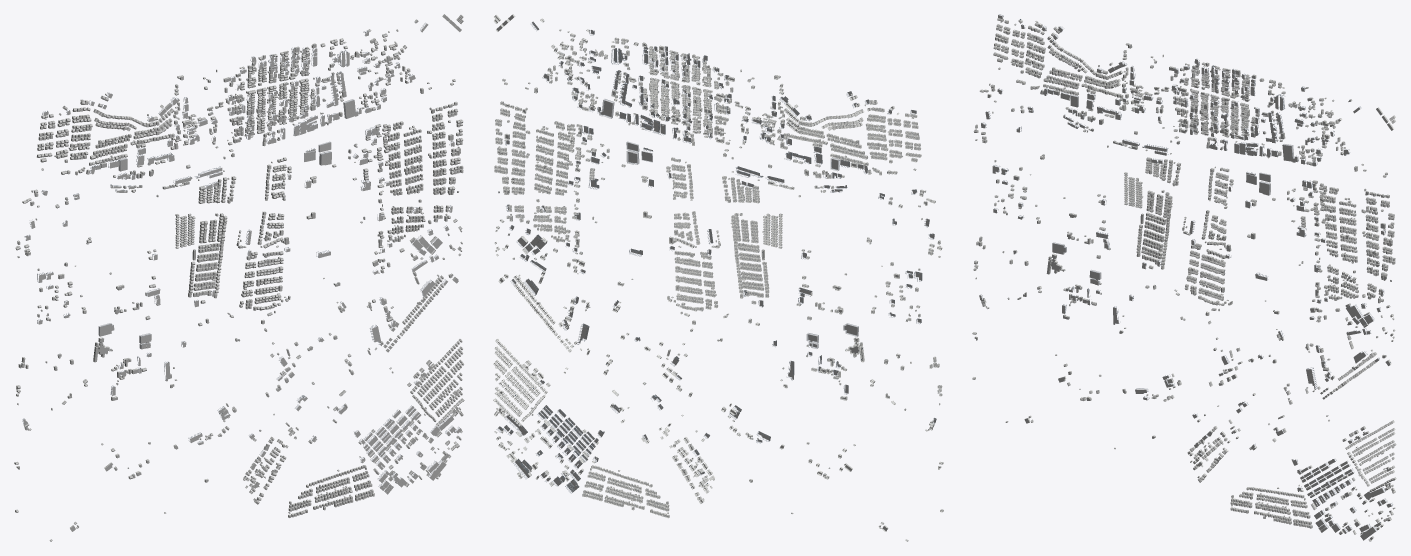
The model's file is buildings_2_0.obj.
The picture shows the model from 3 angles, left to right: view 1: azimuth 30°, elevation 25°; view 2: azimuth 150°, elevation 25°; view 3: azimuth 330°, elevation 25°; orthographic projection. The views are drawn at different scales.
Bounding box in the file's own units: 2012 × 2015 × 31.18.
5 materials, 5 textured.
